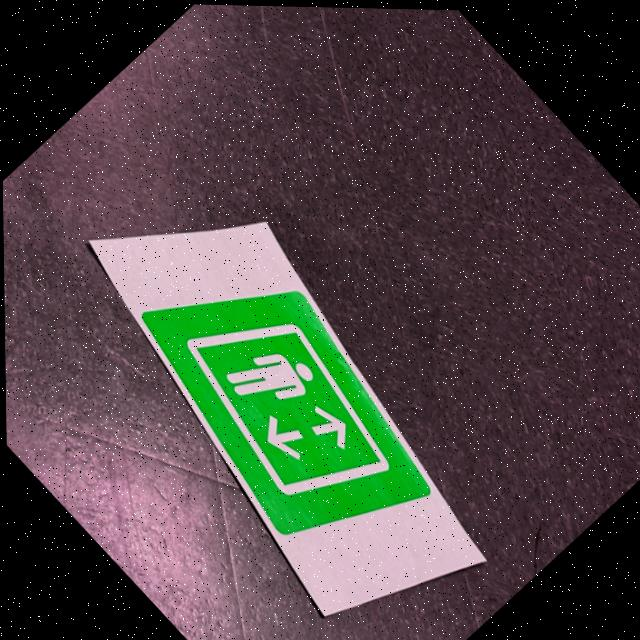elevator: (138, 291, 432, 528)
